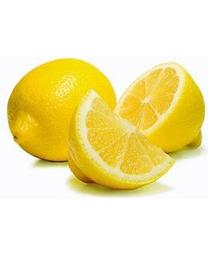lemon: (67, 89, 177, 192), (7, 60, 117, 162), (112, 63, 204, 154)
